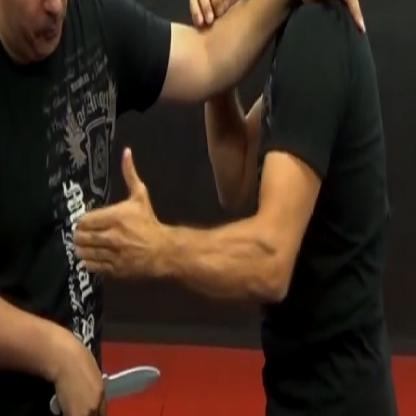knife: (47, 352, 166, 415)
